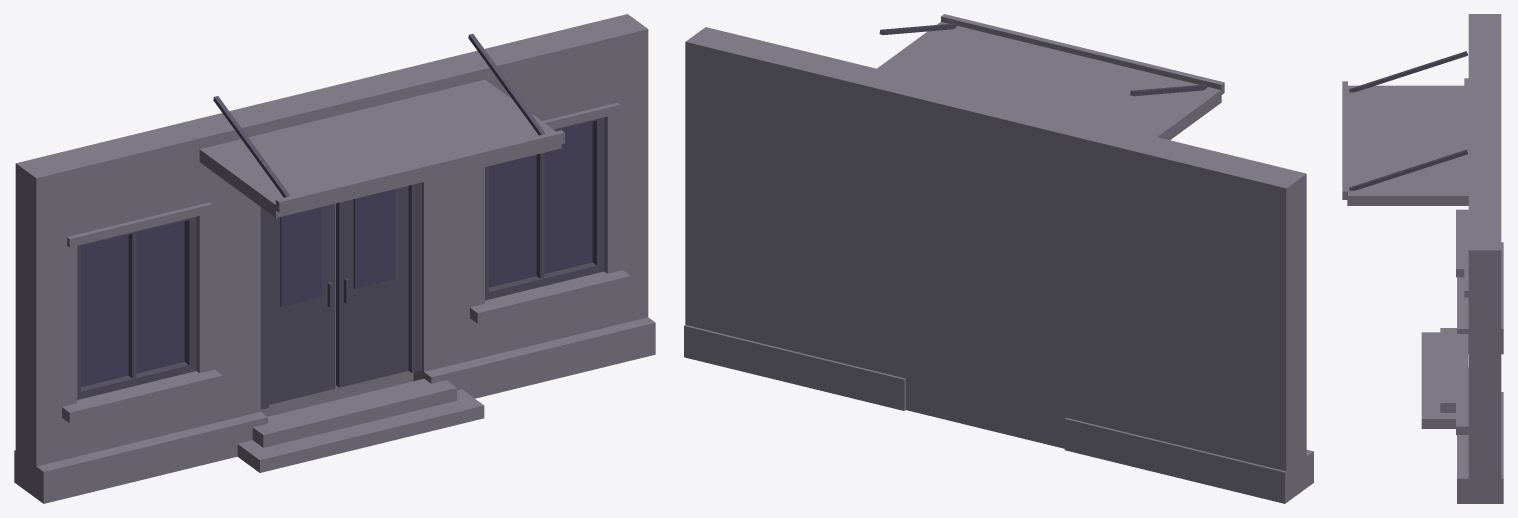
File: FacadeEntrance.glb
3 renders of one model, left to right at view 1: azimuth 30°, elevation 25°; view 2: azimuth 150°, elevation 25°; view 3: azimuth 270°, elevation 25°, orthographic. The views are drawn at different scales.
Parts seen in each view (by area): view 1: pier (×8), window (×2), canopy, spandrel, door (×2), floor-slab (×2), window-frame (×8), step (×2), wall, door-glass (×2), sill (×2), canopy-lip (+2 smaller); view 2: wall, canopy, floor-slab (×2), spandrel, canopy-lip, pier; view 3: canopy, wall, spandrel, step (×2), pier (×3), floor-slab (×2), sill (×2), canopy-rod (×2), canopy-lip, lintel.
Boxes of the visible parts, box(x1,y1,x2,y2) form: pier (×8): box(26, 61, 648, 466); window (×2): box(81, 121, 592, 386); canopy: box(199, 79, 561, 217); spandrel: box(26, 21, 648, 210); door (×2): box(269, 186, 408, 404); floor-slab (×2): box(14, 317, 655, 503); window-frame (×8): box(81, 117, 604, 409); step (×2): box(237, 378, 484, 472); wall: box(15, 14, 637, 490); door-glass (×2): box(280, 189, 395, 306); sill (×2): box(62, 270, 630, 423); canopy-lip: box(275, 130, 564, 212); wall: box(685, 34, 1296, 502); canopy: box(877, 22, 1221, 140); floor-slab (×2): box(684, 325, 1313, 503); spandrel: box(696, 27, 1306, 211); canopy-lip: box(941, 14, 1224, 94); pier: box(1296, 247, 1306, 411); canopy: box(1347, 85, 1468, 205); wall: box(1485, 14, 1501, 503); spandrel: box(1468, 14, 1484, 275); step (×2): box(1421, 328, 1468, 428); pier (×3): box(1468, 275, 1484, 478); floor-slab (×2): box(1457, 242, 1503, 503); sill (×2): box(1456, 209, 1468, 434); canopy-rod (×2): box(1349, 51, 1467, 190); canopy-lip: box(1342, 81, 1347, 199); lintel: box(1464, 236, 1468, 297).
Bounding box in the file's own units: 6 × 3.37 × 1.73.
